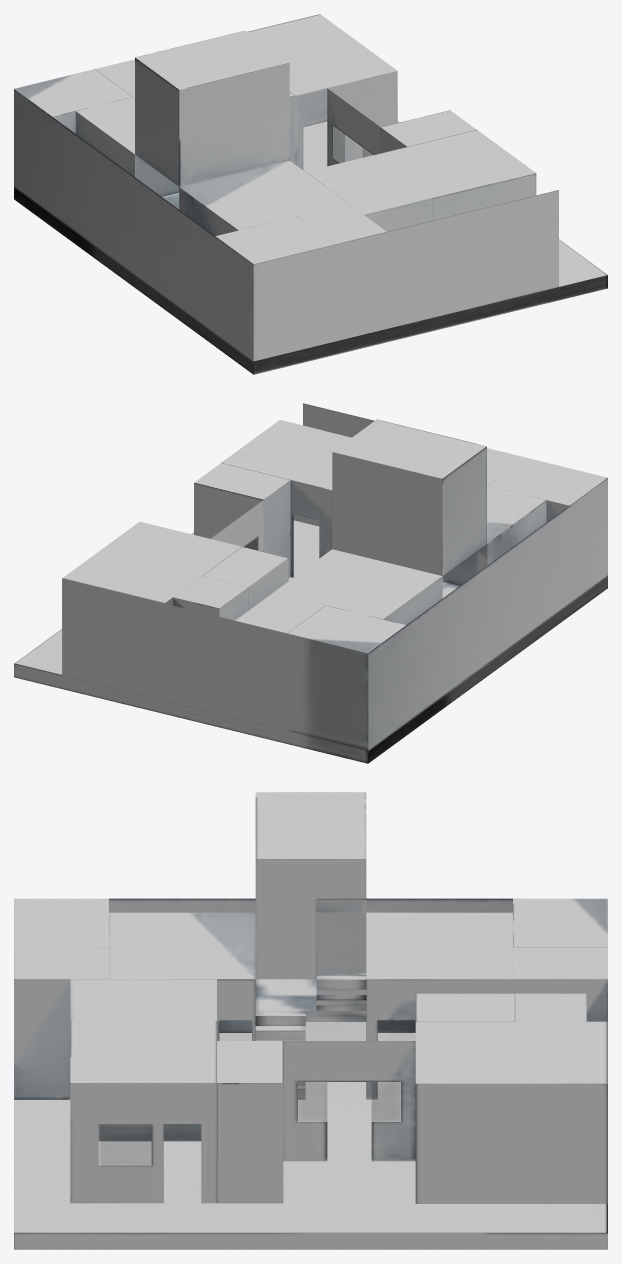
File: AHBaked.glb
The picture shows the model from 3 angles, top to bottom: view 1: azimuth 30°, elevation 25°; view 2: azimuth 150°, elevation 25°; view 3: azimuth 270°, elevation 25°; orthographic projection. The views are drawn at different scales.
Parts seen in each view (by area): view 1: Bounds, Room.010, Room2.001, Room.001, Room, Room.005, Room.003, Room.009, Room2, Gate, Room.006, Room.002 (+1 smaller); view 2: Bounds, Room.010, Room2.001, Room2, Room.003, Room.001, Room.006, Room.005, Room, Room.007, Room.008, Room.004 (+3 smaller); view 3: Bounds, Room2.001, Room.001, Room.010, Room2, Gate, Room, Room.006, Room.002, Room.009, Room.004, Room.003 (+7 smaller).
Part boxes in pixels (<box>): Bounds: <box>14,89,607,374</box>; Room.010: <box>135,30,289,186</box>; Room2.001: <box>247,14,397,169</box>; Room.001: <box>375,130,536,220</box>; Room: <box>179,160,348,235</box>; Room.005: <box>14,69,132,212</box>; Room.003: <box>215,216,334,360</box>; Room.009: <box>305,155,433,231</box>; Room2: <box>75,97,179,196</box>; Gate: <box>327,88,380,166</box>; Room.006: <box>380,110,476,153</box>; Room.002: <box>297,203,386,244</box>; Bounds: <box>14,403,607,763</box>; Room.010: <box>332,419,486,575</box>; Room2.001: <box>62,521,241,675</box>; Room2: <box>273,549,442,624</box>; Room.003: <box>489,458,607,602</box>; Room.001: <box>221,420,351,577</box>; Room.006: <box>194,463,290,578</box>; Room.005: <box>287,605,406,749</box>; Room: <box>442,485,546,585</box>; Room.007: <box>202,546,288,610</box>; Room.008: <box>173,576,248,620</box>; Room.004: <box>235,592,324,633</box>; Bounds: <box>14,898,607,1249</box>; Room2.001: <box>415,1021,607,1203</box>; Room.001: <box>70,1021,216,1203</box>; Room.010: <box>255,792,366,979</box>; Room2: <box>366,912,512,1099</box>; Gate: <box>283,1041,415,1161</box>; Room: <box>109,912,255,1040</box>; Room.006: <box>217,1041,283,1203</box>; Room.002: <box>14,947,108,1099</box>; Room.009: <box>70,979,216,1141</box>; Room.004: <box>513,947,607,1021</box>; Room.003: <box>14,898,108,947</box>.
Size of the model in its own units: 13.96 by 7.82 by 16.37.
4 materials, 4 textured.
